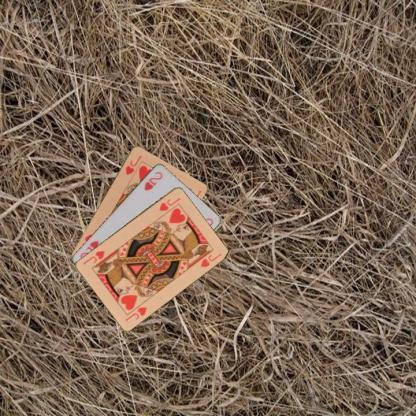2h: (141, 168, 164, 192)
Jh: (122, 152, 142, 176), (156, 194, 182, 212), (122, 304, 148, 322)
